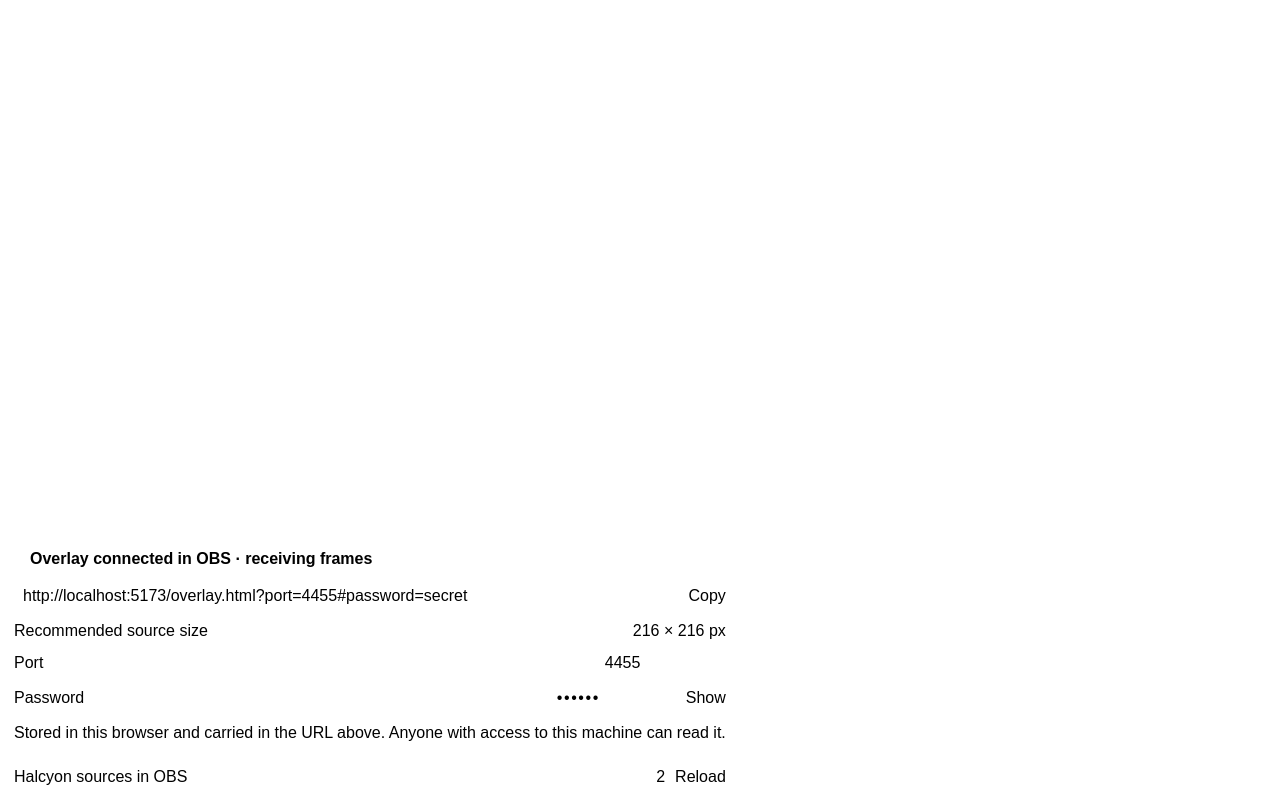
Test: the URL to paste › copies through the caller and says so
The width and height of the screenshot is (1280, 800).
(page scrolled)
Click the button "Copy" at x=707, y=596, box x1=688 y1=587 x2=726 y2=605
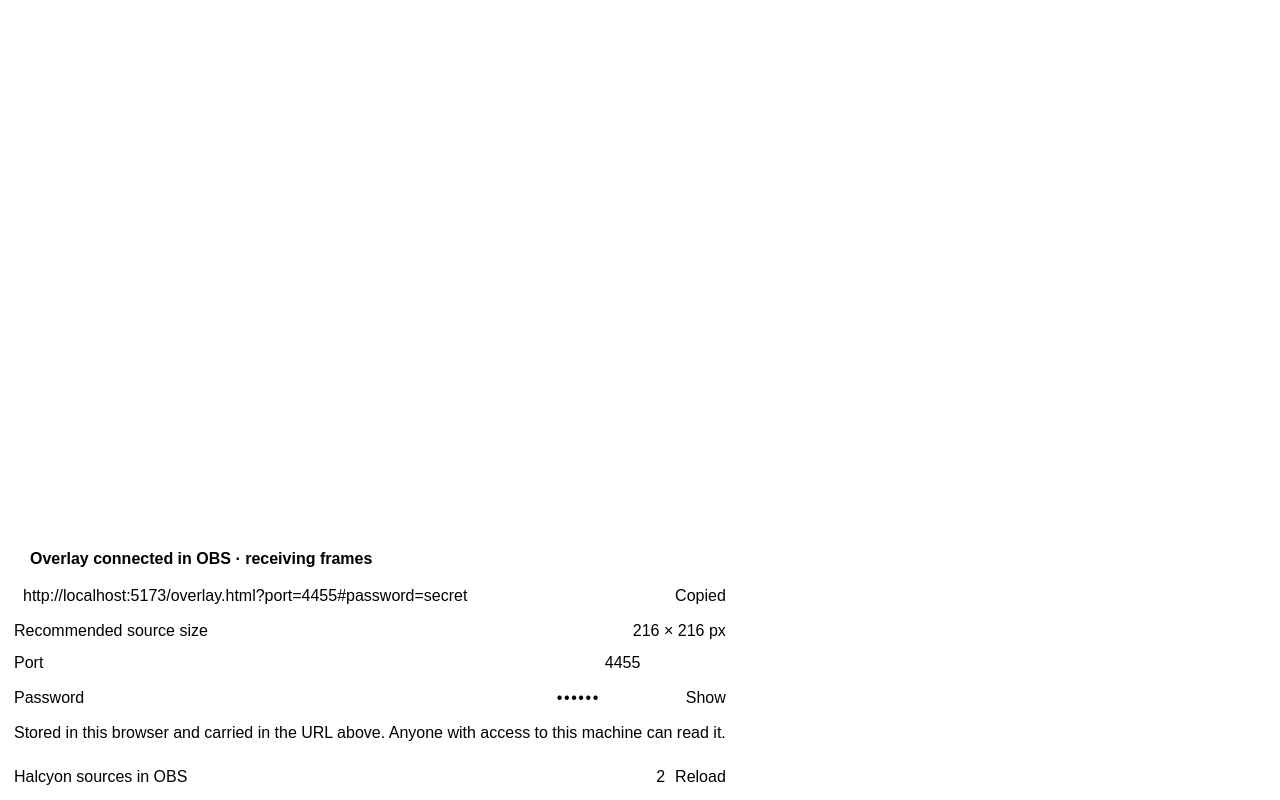
Result: the button "Copied" is shown at x1=675 y1=587 x2=726 y2=605
